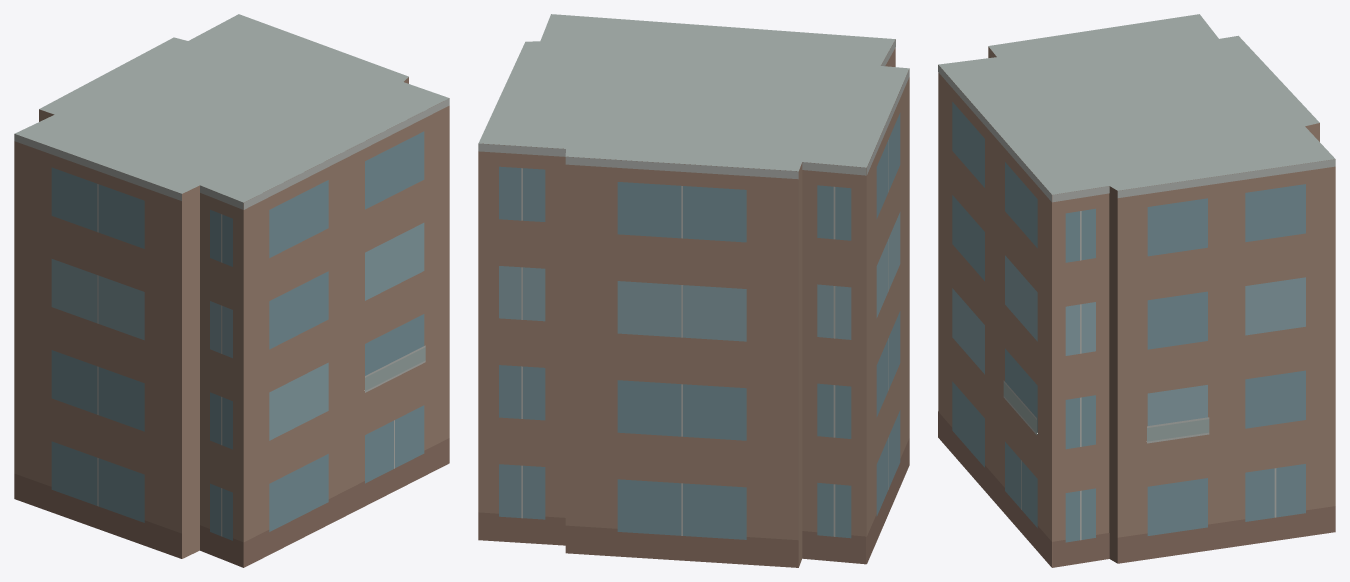
Rendered from survey-upis-32852250.glb.
3 renders of one model, left to right at view 1: azimuth 30°, elevation 25°; view 2: azimuth 150°, elevation 25°; view 3: azimuth 270°, elevation 25°, orthographic. The views are drawn at different scales.
Parts seen in each view (by area): view 1: survey-upis-32852250.tmp; view 2: survey-upis-32852250.tmp; view 3: survey-upis-32852250.tmp.
Boxes of the visible parts, x1,y1,x2,y2 form: survey-upis-32852250.tmp: (14,14,449,567); survey-upis-32852250.tmp: (478,14,909,567); survey-upis-32852250.tmp: (938,14,1335,567).
Bounding box in the file's own units: 12.59 × 12.1 × 11.69.
